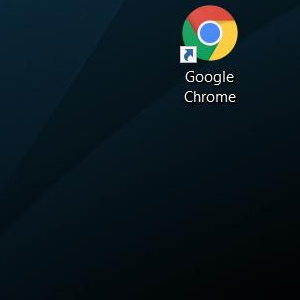chrome: (179, 4, 237, 63)
